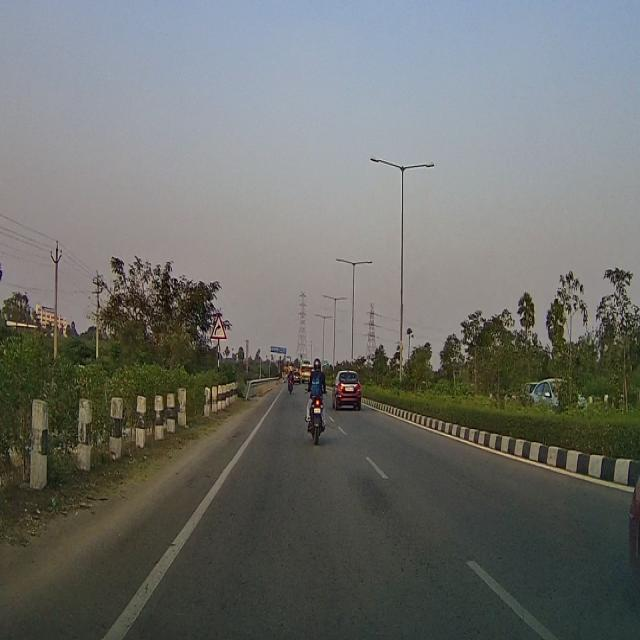right-hand-curve: (211, 313, 226, 338)
